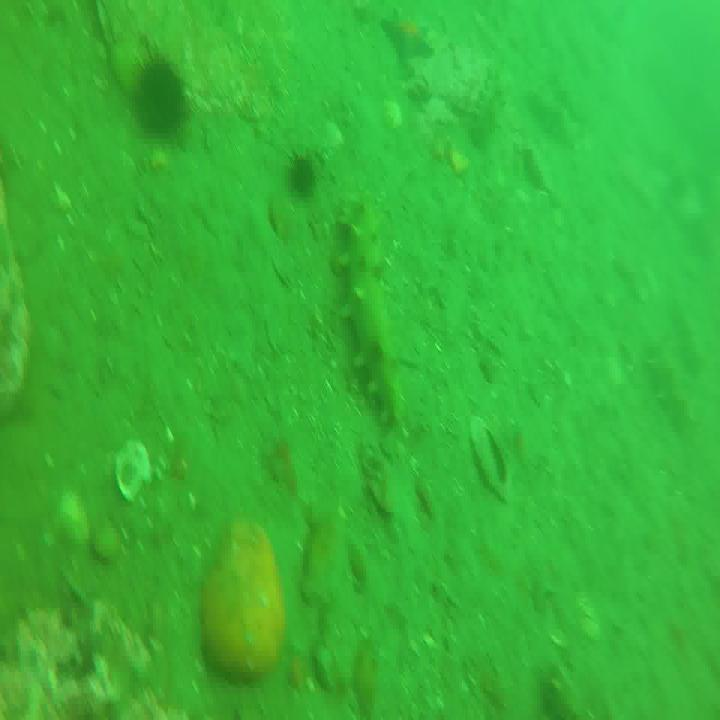echinus: (138, 52, 182, 145), (284, 154, 316, 201)
holothurian: (340, 198, 401, 424), (640, 322, 695, 429), (468, 49, 501, 156)
starfish: (384, 6, 432, 71)
